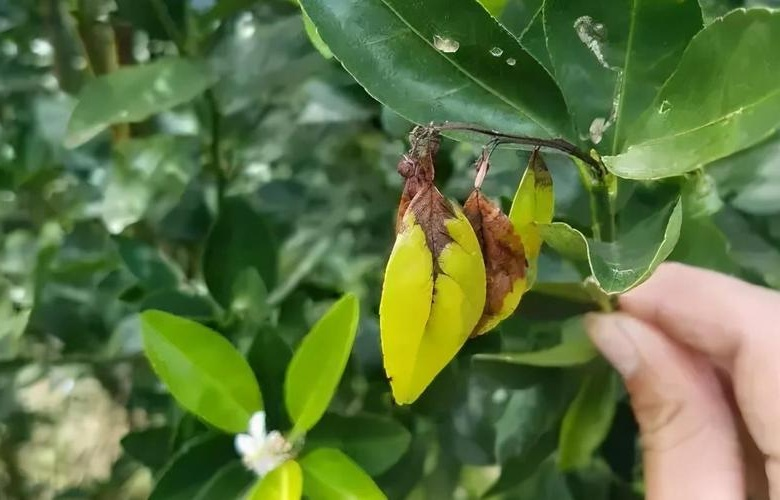Anthracnose: (383, 95, 557, 302)
